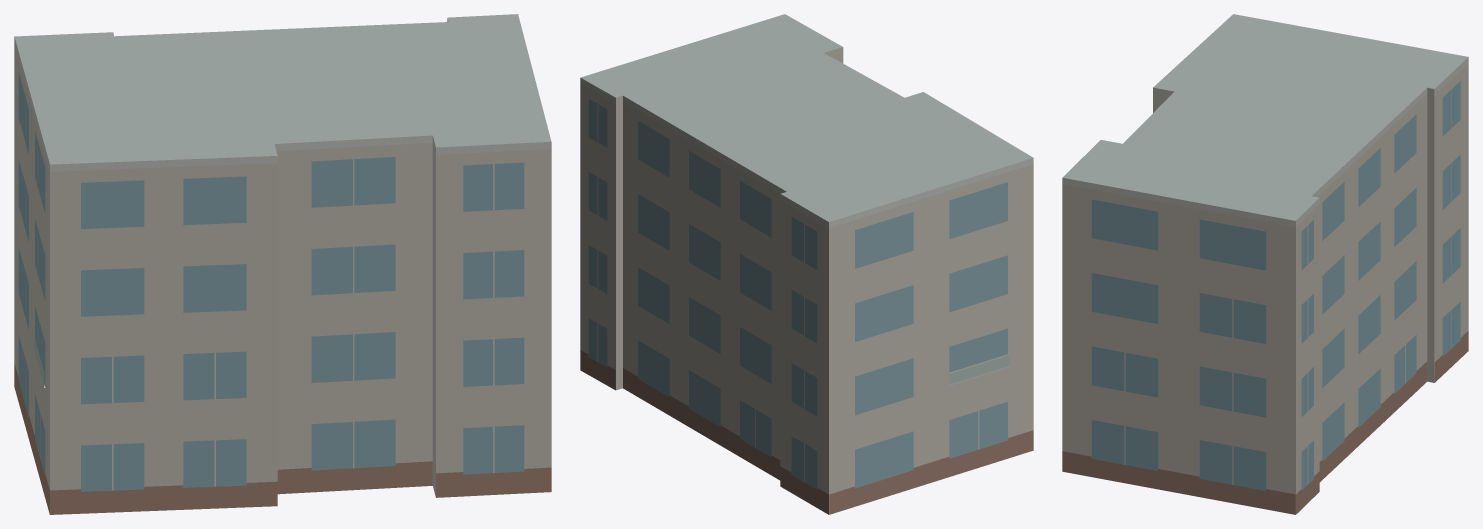
File: survey-upis-32520796.glb
3 renders of one model, left to right at view 1: azimuth 30°, elevation 25°; view 2: azimuth 150°, elevation 25°; view 3: azimuth 270°, elevation 25°, orthographic. The views are drawn at different scales.
Visible parts, largest first — view 1: survey-upis-32520796.tmp; view 2: survey-upis-32520796.tmp; view 3: survey-upis-32520796.tmp.
Boxes of the visible parts, bbox=[...] form: survey-upis-32520796.tmp: bbox=[14, 14, 551, 514]; survey-upis-32520796.tmp: bbox=[580, 14, 1033, 514]; survey-upis-32520796.tmp: bbox=[1062, 14, 1468, 514].
Bounding box in the file's own units: 17.82 × 11.8 × 14.79.
